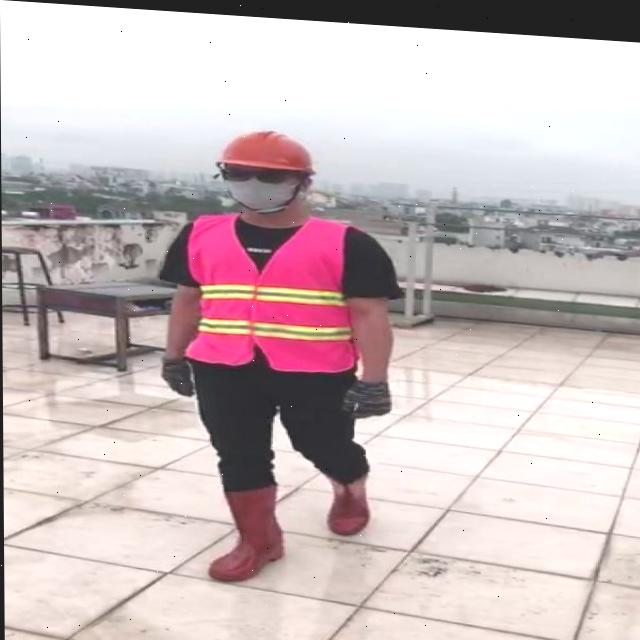Gloves: (342, 372, 392, 415), (162, 353, 194, 394)
Helmet: (217, 122, 316, 173)
Safety-Boot: (207, 474, 285, 581), (327, 466, 370, 531)
Safety-Vest: (185, 205, 360, 372)
